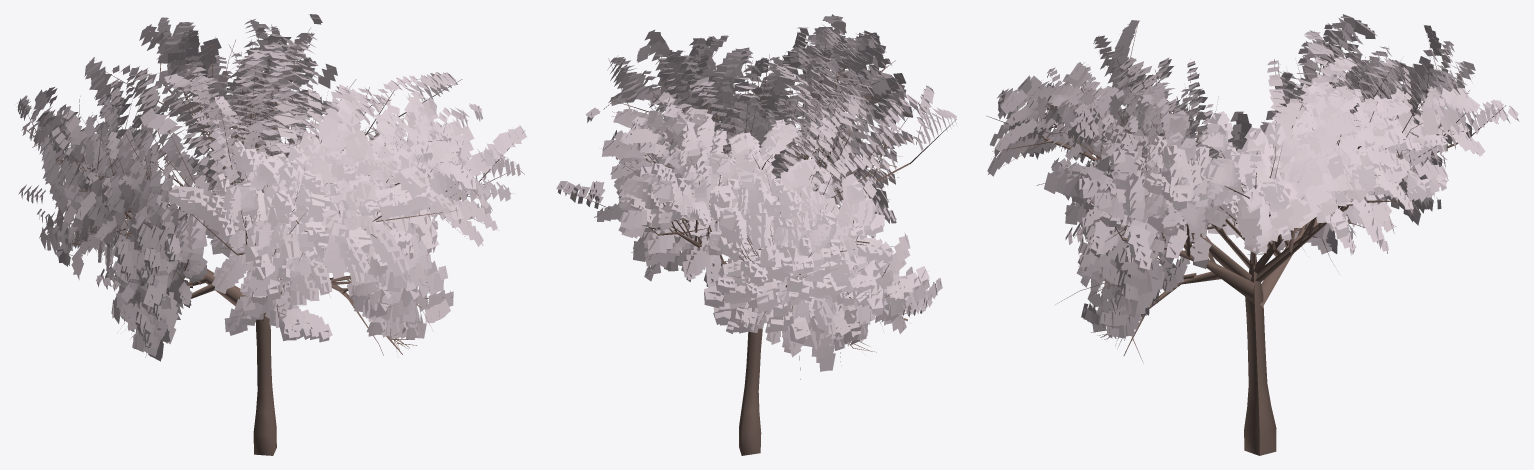
The model's file is sakura-natural-upright.glb.
The picture shows the model from 3 angles, left to right: view 1: azimuth 30°, elevation 25°; view 2: azimuth 150°, elevation 25°; view 3: azimuth 270°, elevation 25°; orthographic projection. The views are drawn at different scales.
Bounding box in the file's own units: 10.2 × 9.2 × 11.29.
